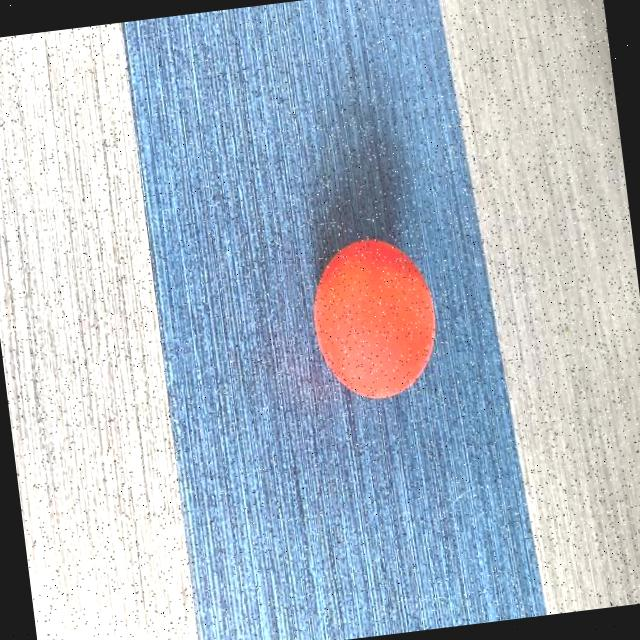ping-pong-ball: (302, 232, 446, 406)
